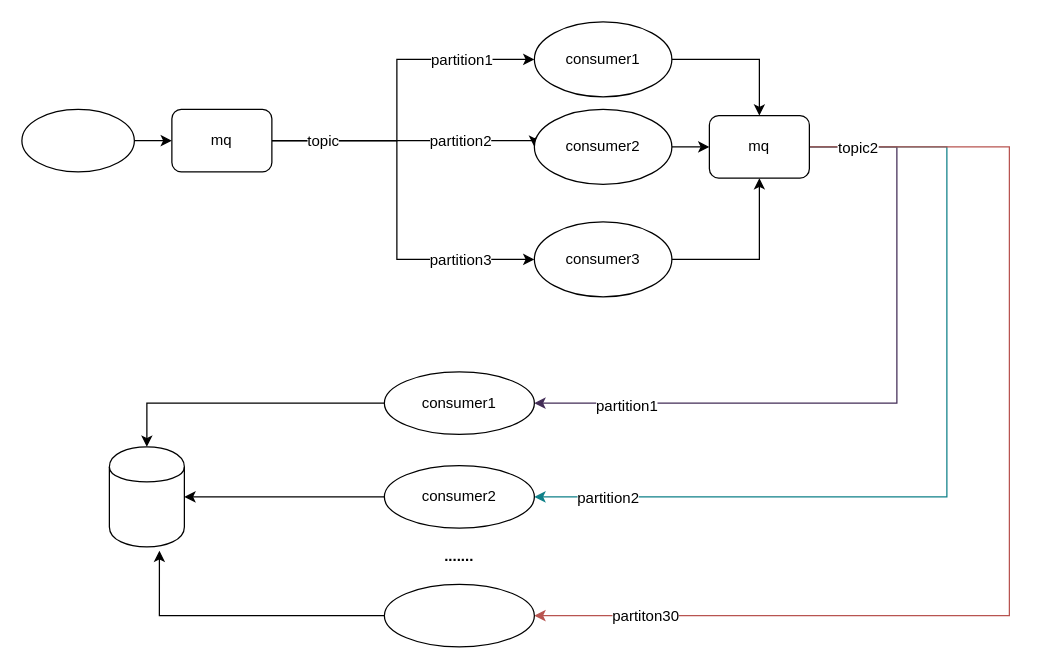
Image size: 1041x669. Some labels were removed from this diagram. The shapes that lost their labels are listed below. From the top down, each one's centre as x and y in pixels, then its label:
At [77,140]: "producer".
At [146,496]: "DB".
At [458,615]: "consumer30".
